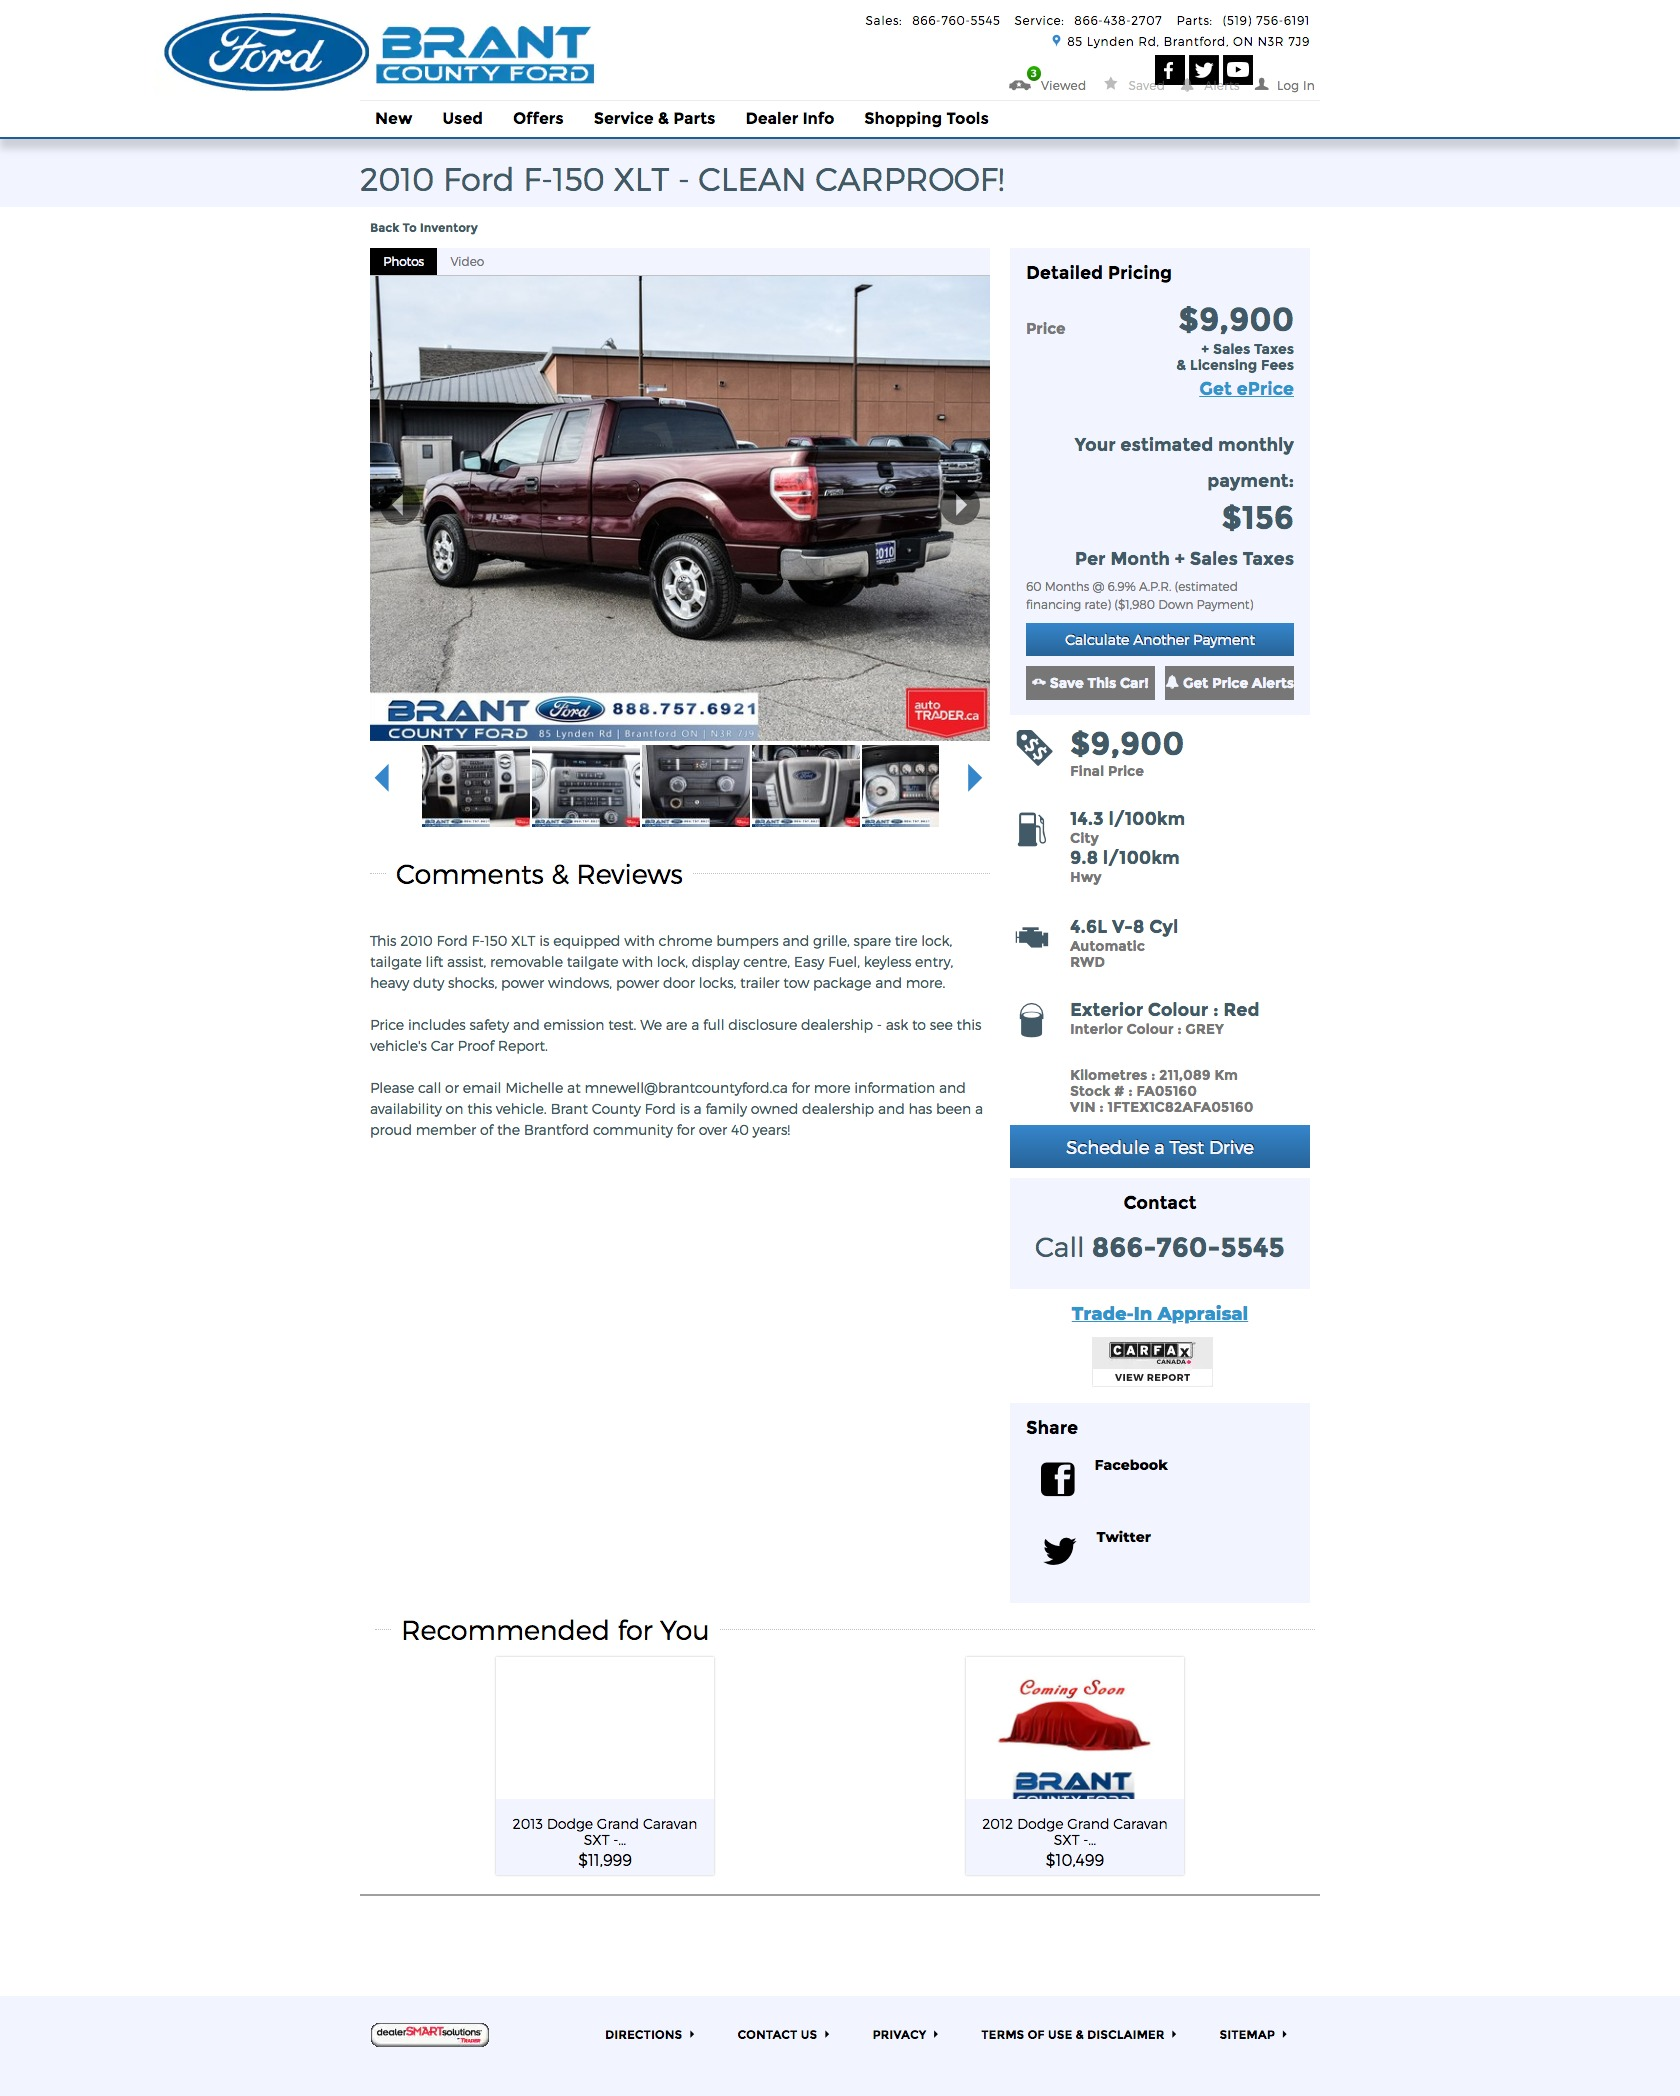car: (967, 764, 982, 792)
